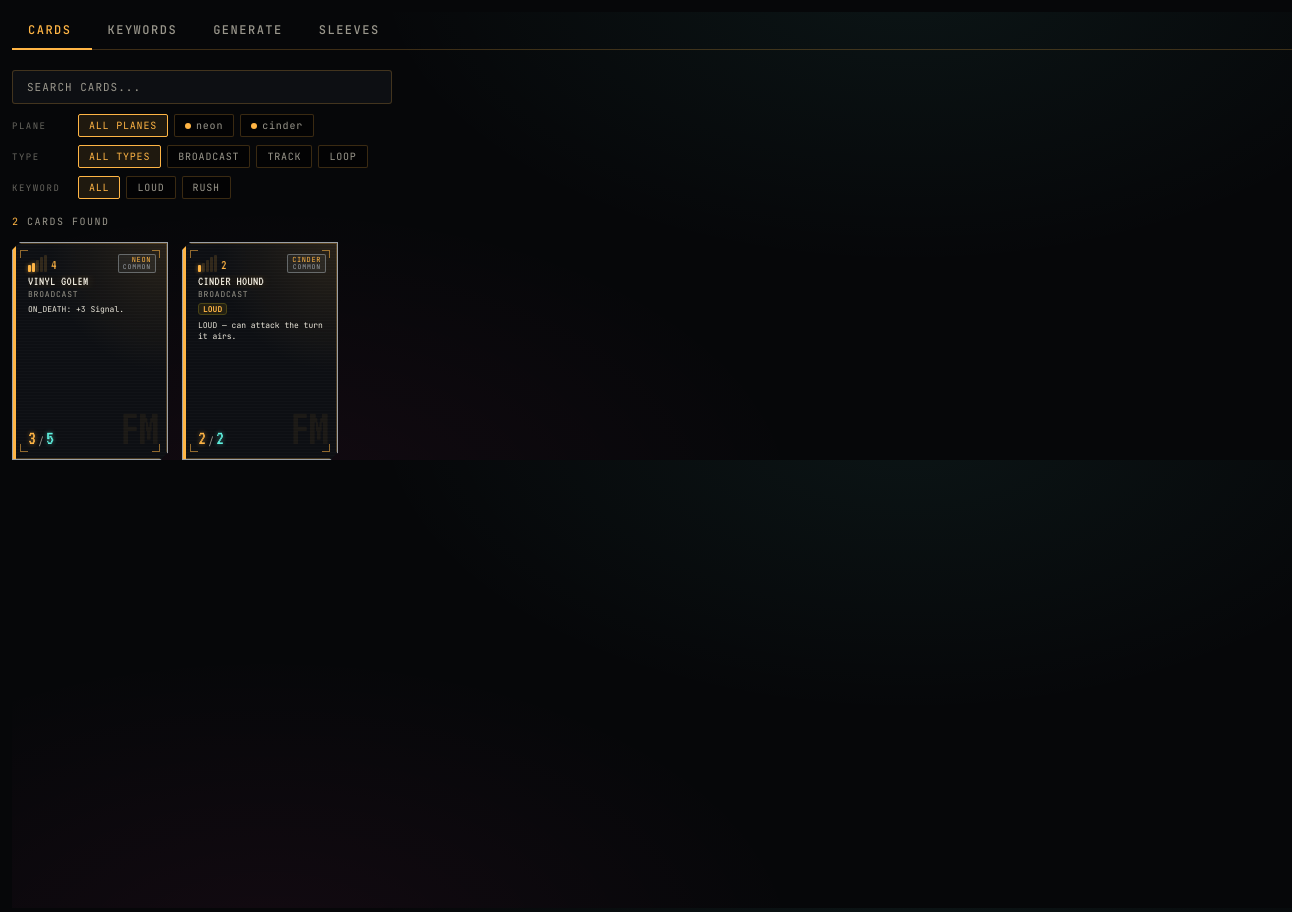
Test: CodexView › filters cards when a card keyword chip is clicked
Check: the text "Cinder Hound" is shown, box [198, 274, 264, 288]
Step 1. Click the text "LOUD" → x=213, y=309, box [198, 303, 227, 315]
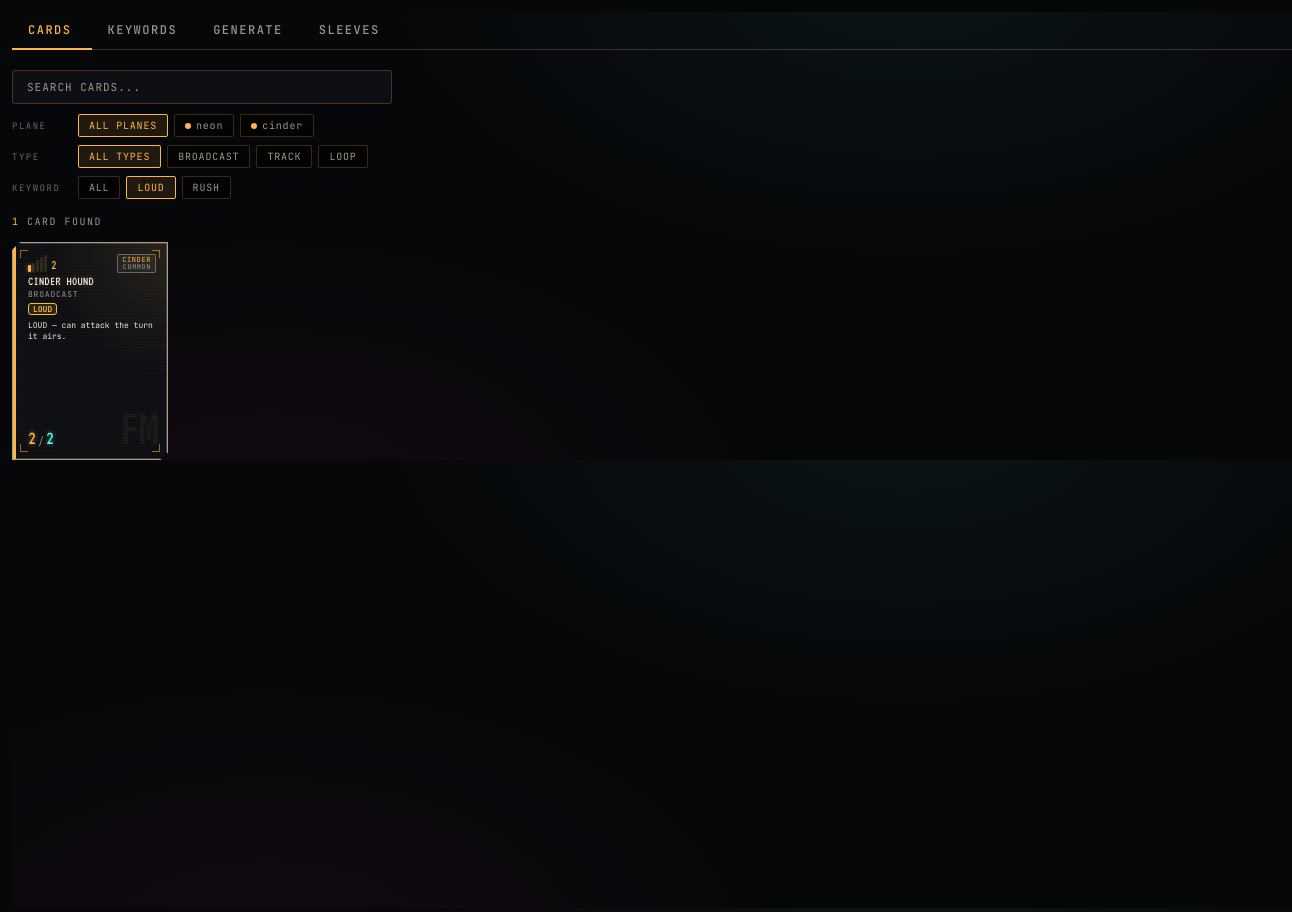
Check: the text "Cinder Hound" is shown, box [28, 274, 94, 288]
Check: the text "Vinyl Golem" is gone
